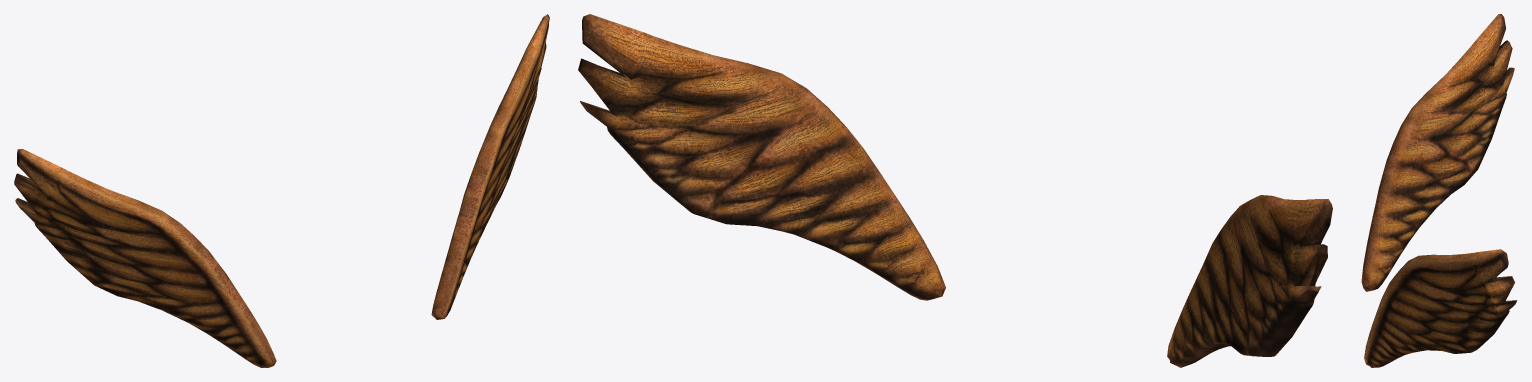
Rendered from LEG_CHIBI_HERMES_WINGS.fbx.
3 renders of one model, left to right at view 1: azimuth 30°, elevation 25°; view 2: azimuth 150°, elevation 25°; view 3: azimuth 270°, elevation 25°, orthographic. The views are drawn at different scales.
Parts seen in each view (by area): view 1: LEG_HERMES_WINGS_RIGHT, LEG_HERMES_WINGS_LEFT; view 2: LEG_HERMES_WINGS_LEFT, LEG_HERMES_WINGS_RIGHT; view 3: LEG_HERMES_WINGS_RIGHT, LEG_HERMES_WINGS_LEFT.
Part boxes in pixels (x1,y1,x2,y2): LEG_HERMES_WINGS_RIGHT: (14,149,276,367); LEG_HERMES_WINGS_LEFT: (431,14,549,319); LEG_HERMES_WINGS_LEFT: (578,14,945,300); LEG_HERMES_WINGS_RIGHT: (1167,195,1332,367); LEG_HERMES_WINGS_RIGHT: (1361,14,1514,291); LEG_HERMES_WINGS_LEFT: (1364,249,1517,367).
Size of the model in its own units: 0.0692 by 0.0267 by 0.0187.
